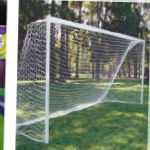goals: (18, 15, 147, 145)
